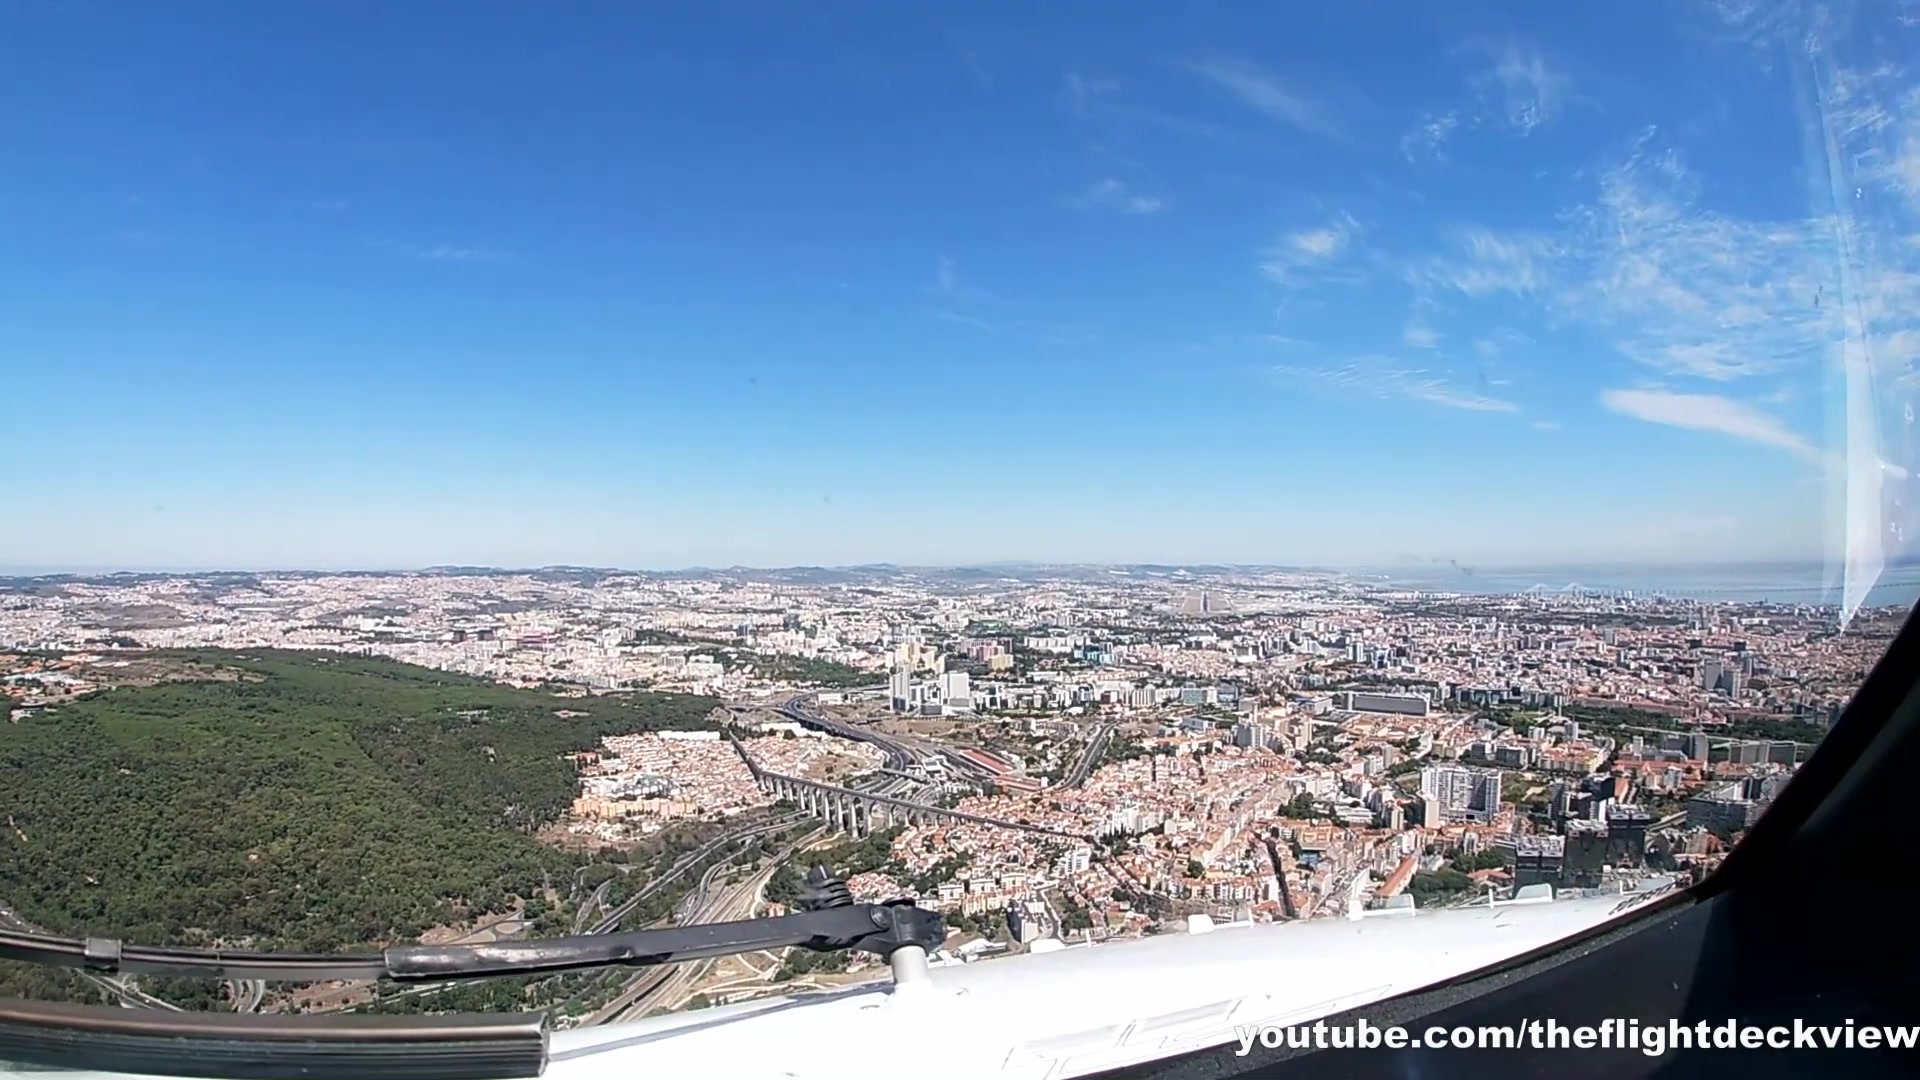runway: (1197, 591, 1213, 615)
